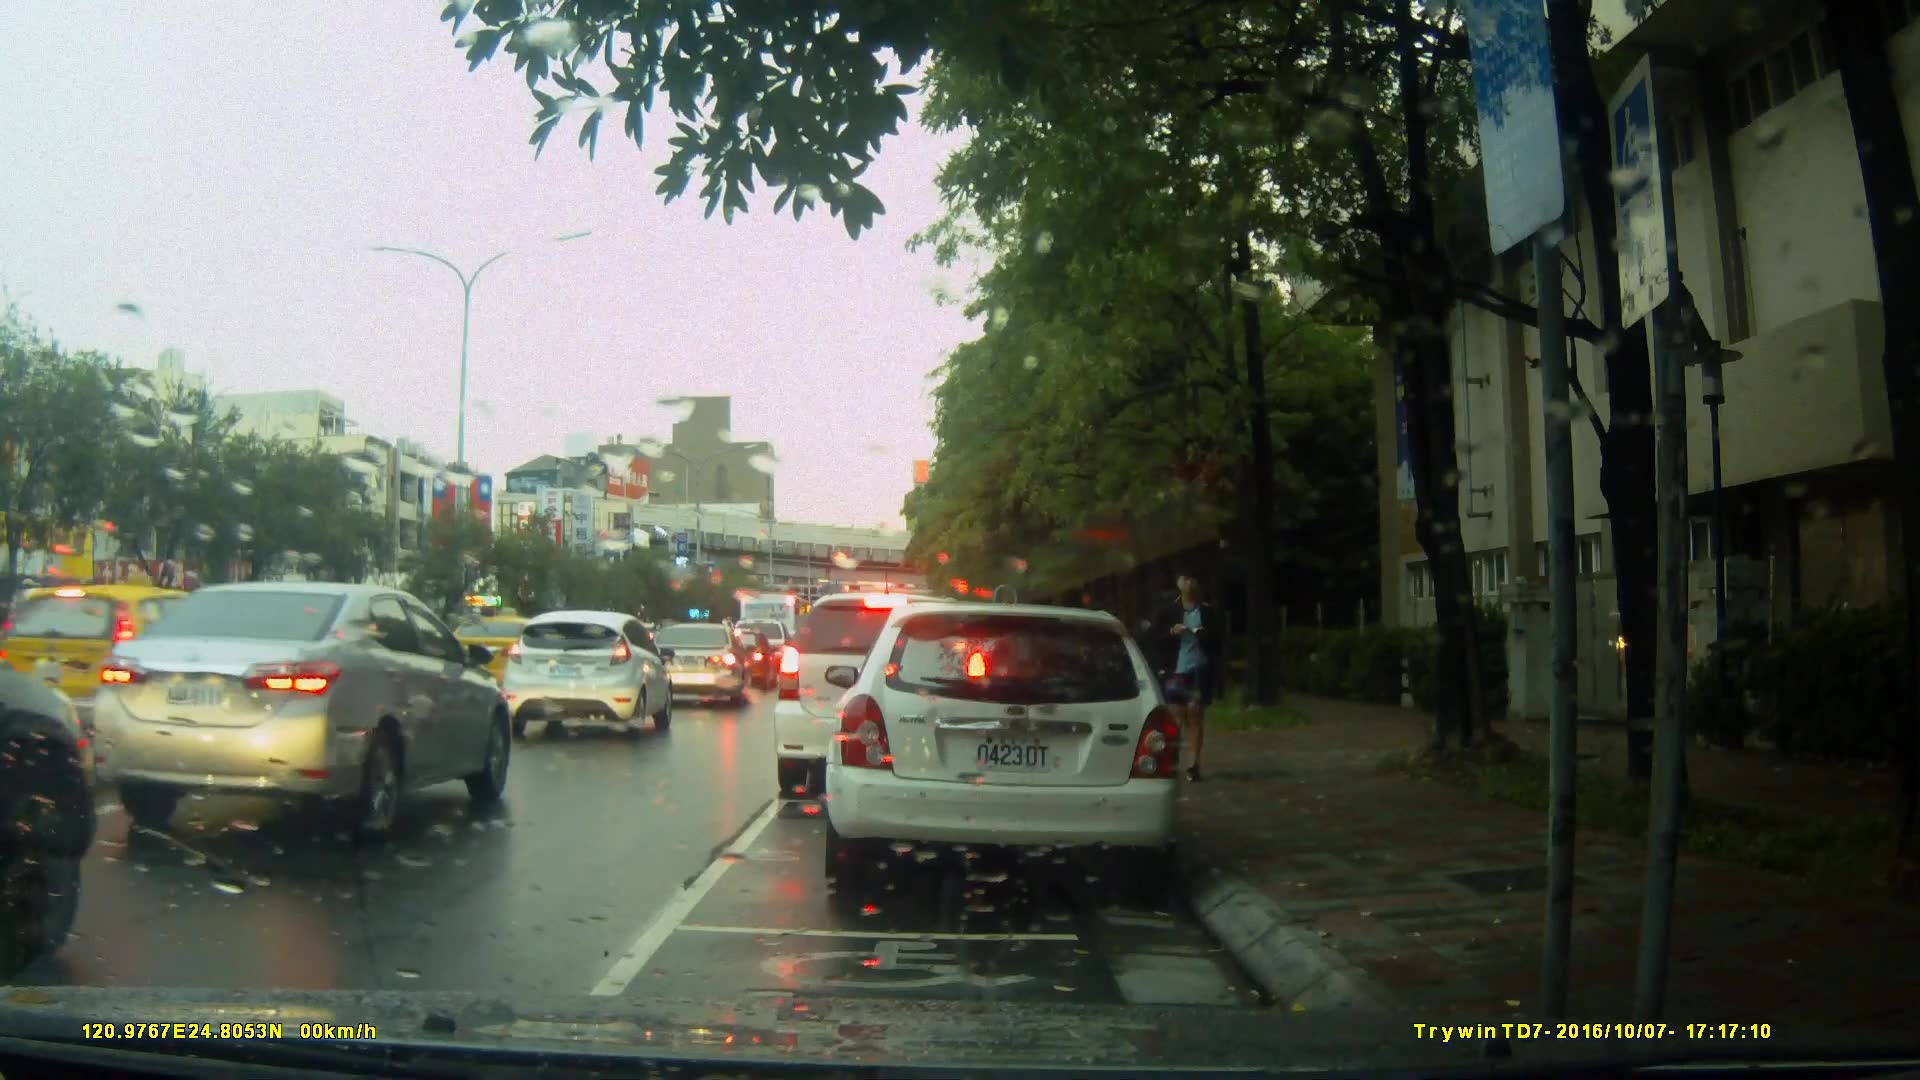pedestrian: (1148, 562, 1220, 751)
vehicle: (87, 579, 520, 841), (835, 594, 1194, 898), (776, 590, 1026, 784), (25, 581, 250, 767), (498, 608, 677, 739), (440, 613, 573, 698), (643, 621, 753, 712), (717, 579, 817, 665), (708, 629, 779, 689)
